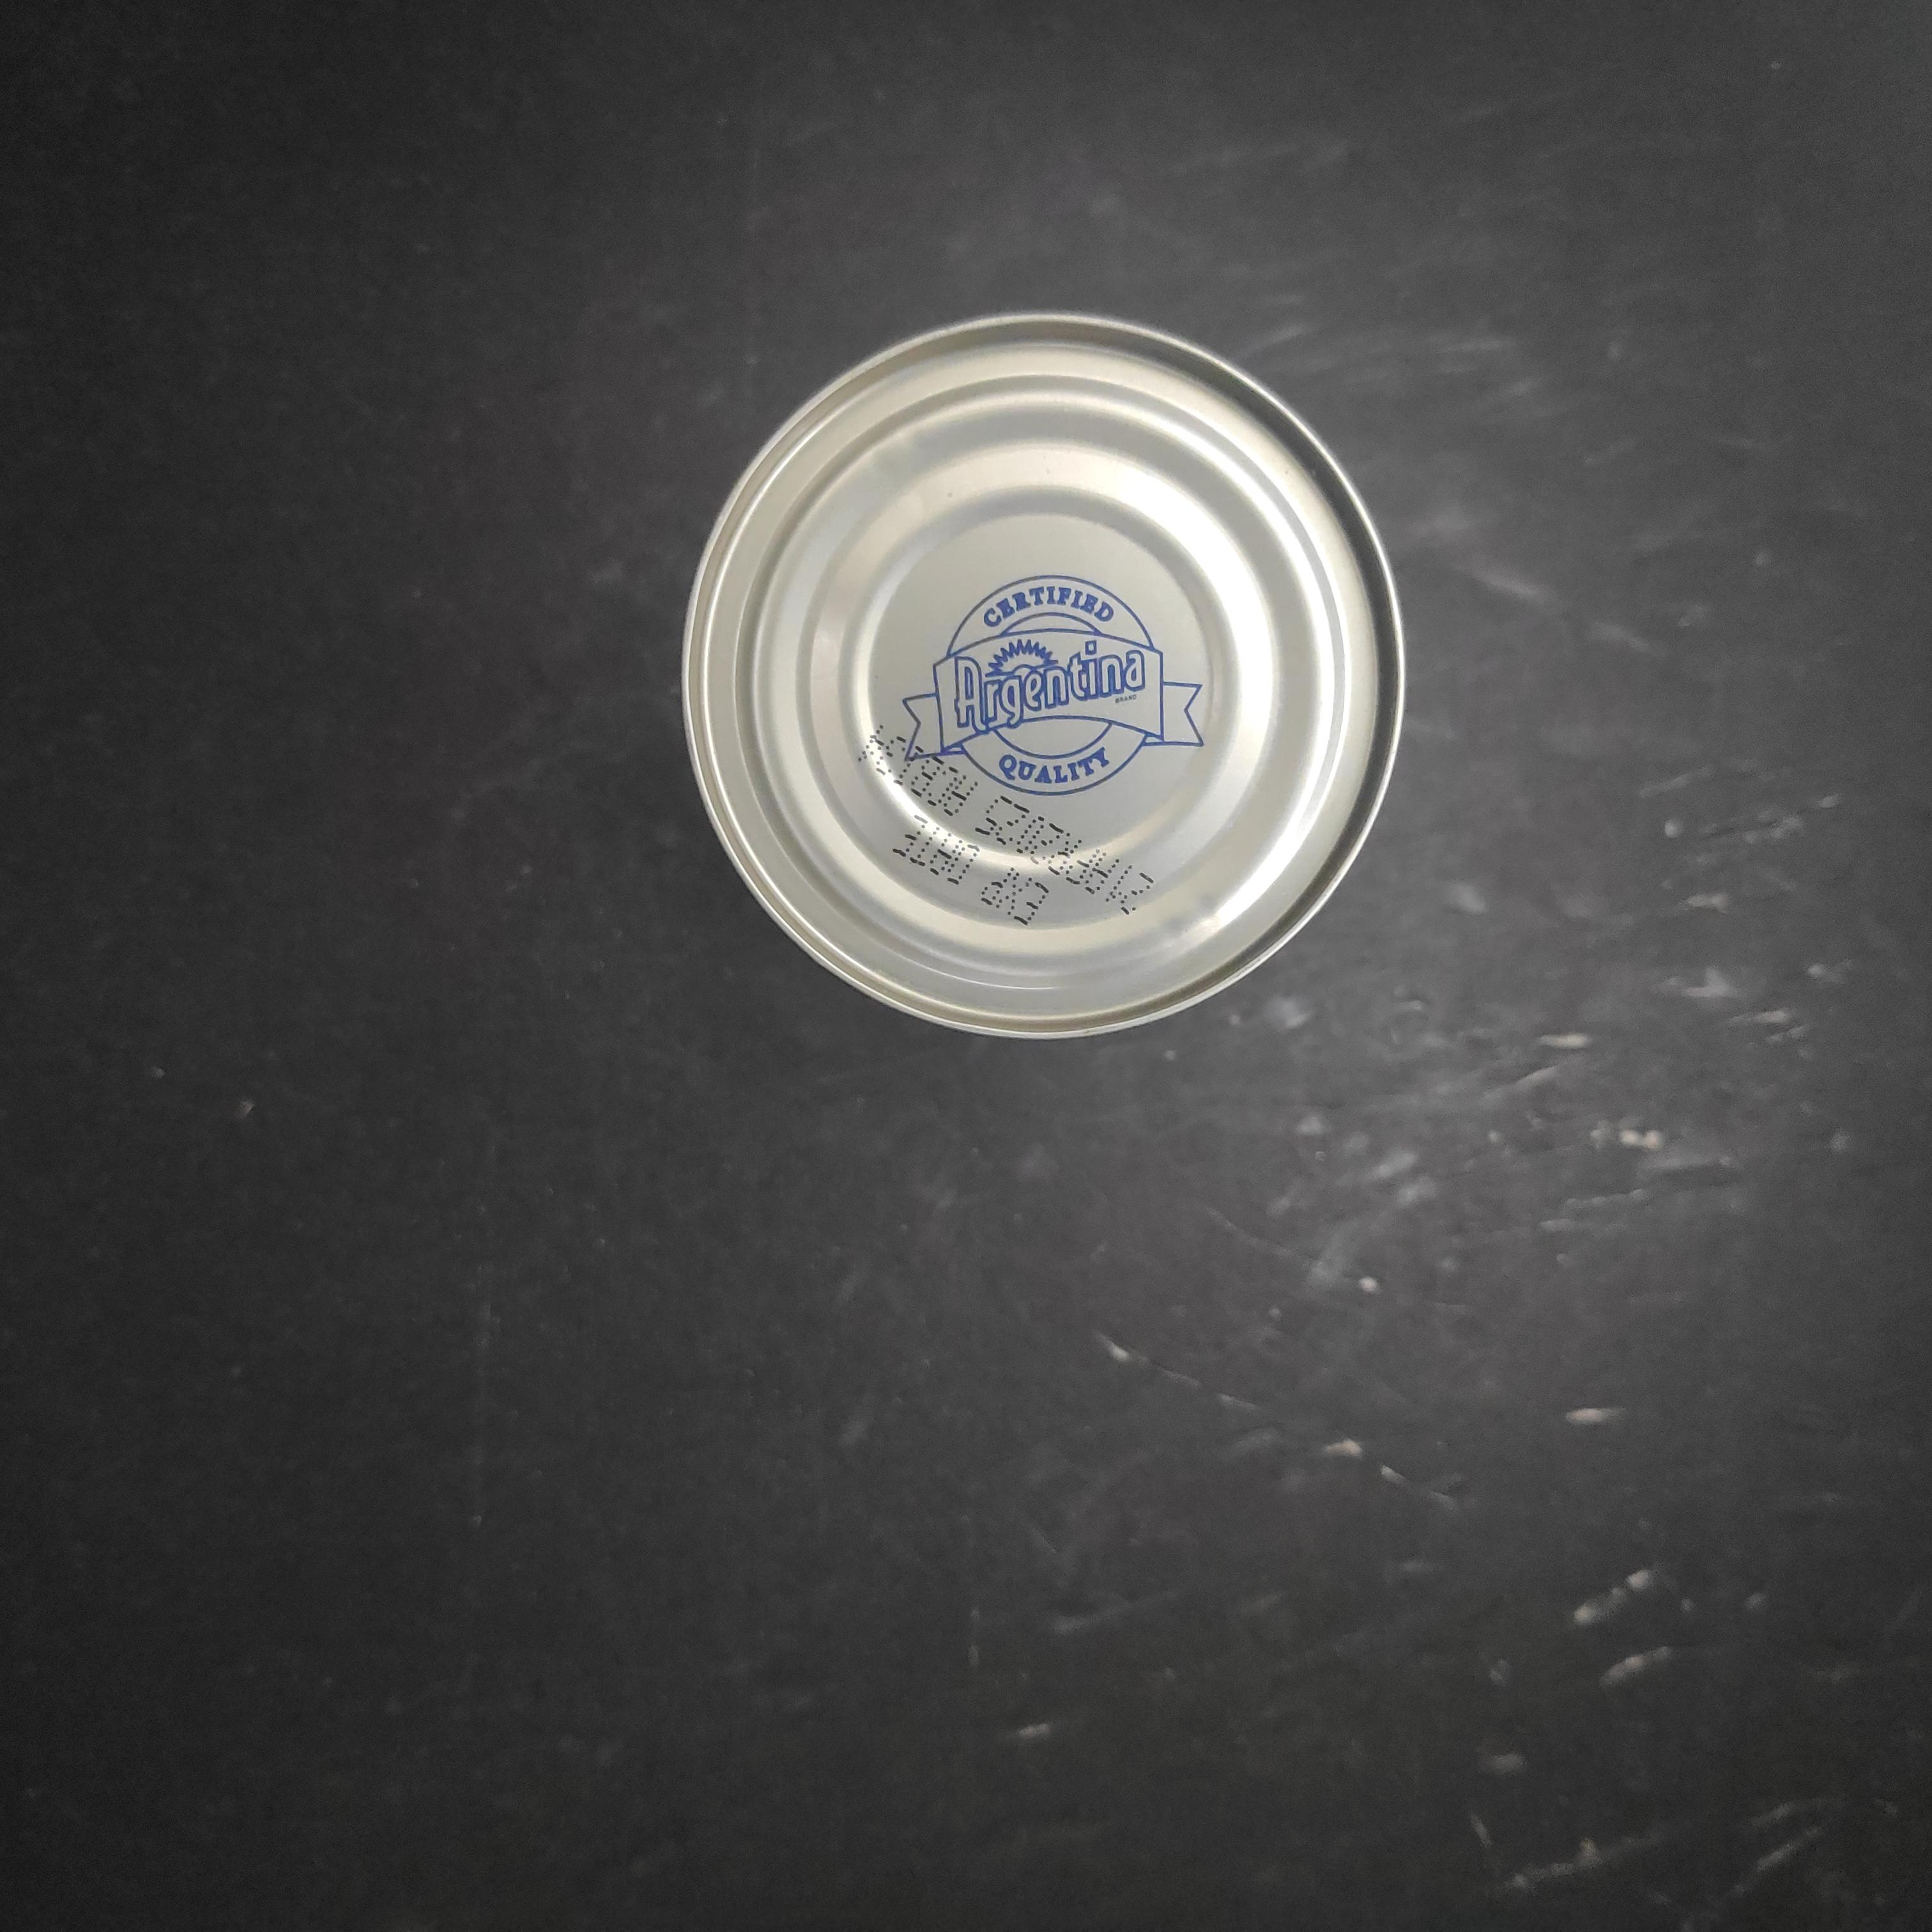No defect: (890, 679, 1626, 1408)
